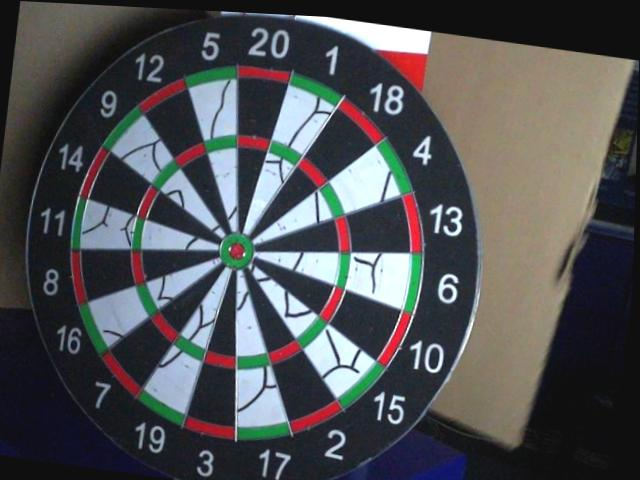double_11: (128, 220, 145, 249)
triple_1: (269, 144, 300, 162)
triple_12: (173, 145, 206, 167)
triple_13: (337, 217, 353, 254)
triple_15: (297, 320, 326, 347)
triple_16: (138, 285, 161, 315)
triple_3: (206, 350, 235, 370)
